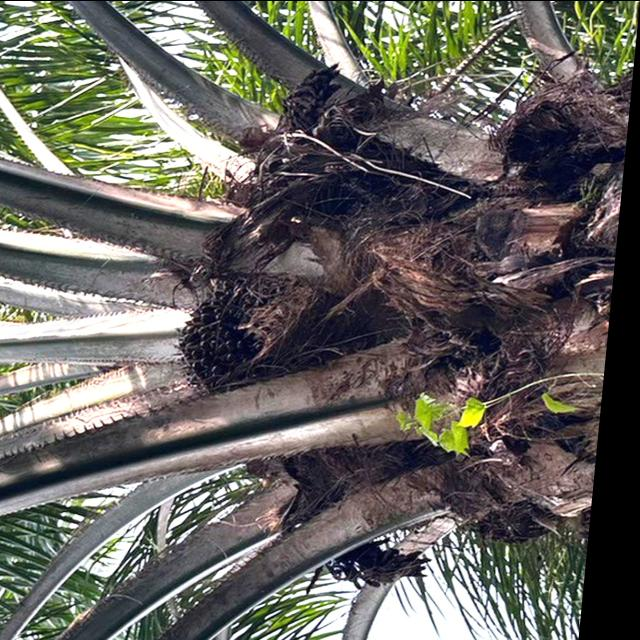almost: (170, 264, 379, 408)
